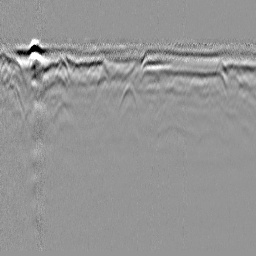cavity: (117, 81, 140, 115)
